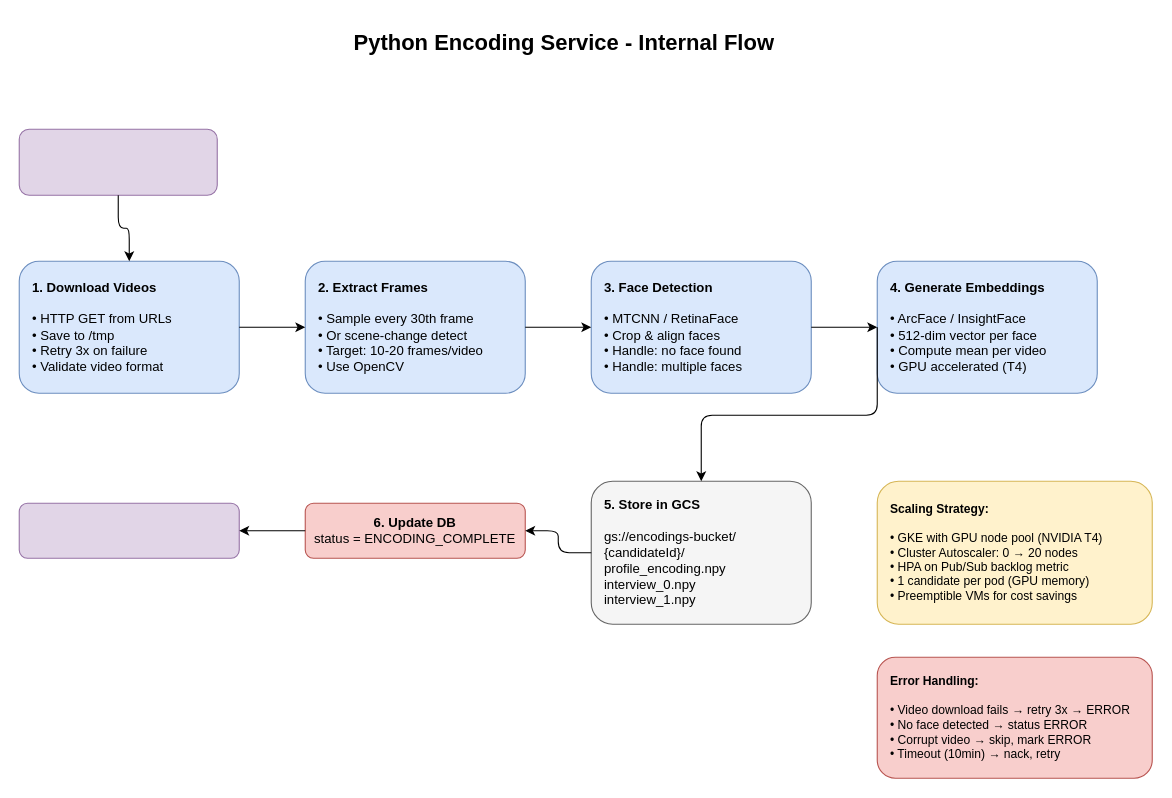
Some shapes in this 1172 by 798 pixel diagram are drawn without their labels. The box of each missing label's shape, as (x1, y1, x2, y2) in pixels:
7. Publish Topic: encoding-complete: (18, 502, 239, 558)
Pub/Sub Message {candidateId, videoUrls}: (18, 128, 217, 195)
